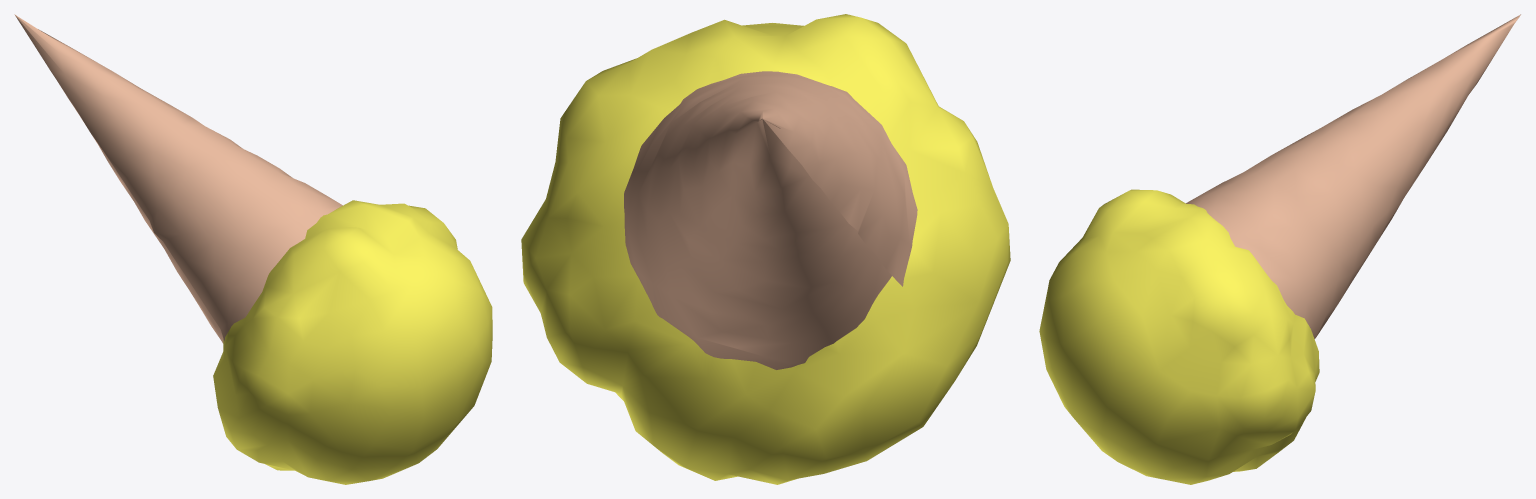
The model's file is cono_LOD0.fbx.
3 views of the same model, side by side, from view 1: azimuth 30°, elevation 25°; view 2: azimuth 150°, elevation 25°; view 3: azimuth 270°, elevation 25° (orthographic). The views are drawn at different scales.
Parts seen in each view (by area): view 1: cono; view 2: cono; view 3: cono.
Boxes of the visible parts, bbox=[...] form: cono: bbox=[14, 14, 492, 484]; cono: bbox=[521, 14, 1010, 484]; cono: bbox=[1039, 14, 1520, 484].
Bounding box in the file's own units: 52.29 × 64.86 × 75.42.
